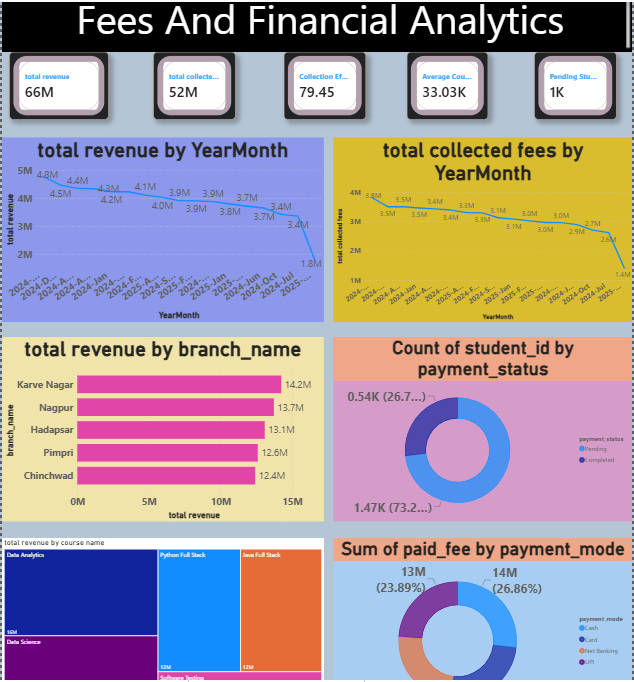

What the dashboard file says about the page in this screenshot:
{"tool":"powerbi","page":{"name":"Finacial Analytics","canvas":[1400,1650],"ordinal":3},"visuals":[{"type":"textbox","box":[0,0,1400,140],"z":0},{"type":"cardVisual","fields":{"Data":["revenue measures.total revenue"]},"box":[17.5,140,220,150],"z":1000},{"type":"cardVisual","fields":{"Data":["revenue measures.total collected fees"]},"box":[335,140,182,150],"z":2000},{"type":"cardVisual","fields":{"Data":["finacial analytics (2).Collection Efficiency %"]},"box":[625,140,182,150],"z":3000},{"type":"cardVisual","fields":{"Data":["finacial analytics (2).Average Course Fee"]},"box":[900,140,180,150],"z":4000},{"type":"cardVisual","fields":{"Data":["finacial analytics (2).Pending Student Count"]},"box":[1182.5,140,182,150],"z":5000},{"type":"lineChart","fields":{"Category":["date table.YearMonth"],"Y":["revenue measures.total revenue"]},"box":[0,330,715,410],"z":6000},{"type":"lineChart","fields":{"Category":["date table.YearMonth"],"Y":["revenue measures.total collected fees"]},"box":[735,330,665,410],"z":7000},{"type":"clusteredBarChart","fields":{"Category":["branches_dim.branch_name"],"Y":["revenue measures.total revenue"]},"box":[0,772.5,715,410],"z":8000},{"type":"donutChart","fields":{"Category":["fees.payment_status"],"Y":["CountNonNull(fees.student_id)"]},"box":[735,772.5,665,410],"z":9000},{"type":"treemap","fields":{"Group":["courses_dim.course name"],"Values":["revenue measures.total revenue"]},"box":[0,1220,715,410],"z":10000},{"type":"donutChart","fields":{"Category":["fees.payment_mode"],"Y":["Sum(fees.paid_fee)"]},"box":[735,1220,665,410],"z":11000}]}

Visuals, with their boxes on the page's 1400x1650 design canvas (x1, y1, x2, y2). These are canvas units, not pixel positions in the 634x682 screenshot, which may show the page scaled, cropped or inside an application window:
textbox: detection(0, 0, 1400, 140)
cardVisual - revenue measures.total revenue: detection(18, 140, 238, 290)
cardVisual - revenue measures.total collected fees: detection(335, 140, 517, 290)
cardVisual - finacial analytics (2).Collection Efficiency %: detection(625, 140, 807, 290)
cardVisual - finacial analytics (2).Average Course Fee: detection(900, 140, 1080, 290)
cardVisual - finacial analytics (2).Pending Student Count: detection(1182, 140, 1364, 290)
lineChart - date table.YearMonth x revenue measures.total revenue: detection(0, 330, 715, 740)
lineChart - date table.YearMonth x revenue measures.total collected fees: detection(735, 330, 1400, 740)
clusteredBarChart - branches_dim.branch_name x revenue measures.total revenue: detection(0, 772, 715, 1182)
donutChart - fees.payment_status x CountNonNull(fees.student_id): detection(735, 772, 1400, 1182)
treemap - courses_dim.course name x revenue measures.total revenue: detection(0, 1220, 715, 1630)
donutChart - fees.payment_mode x Sum(fees.paid_fee): detection(735, 1220, 1400, 1630)
